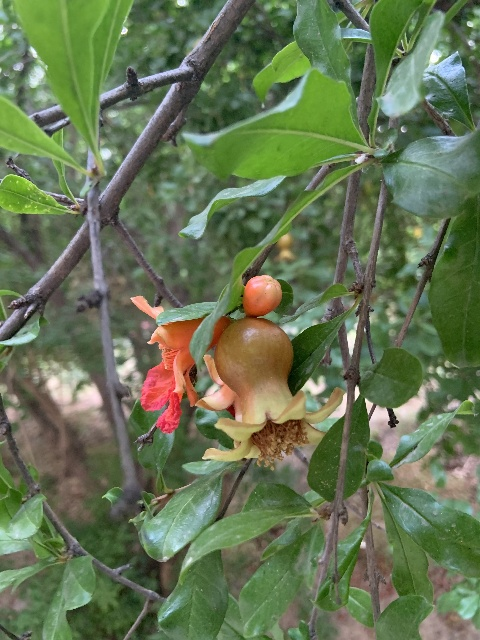bud: (242, 274, 282, 317)
early-fruit: (196, 316, 345, 465)
flower: (132, 296, 229, 432)
mid-growth: (270, 233, 298, 263)
